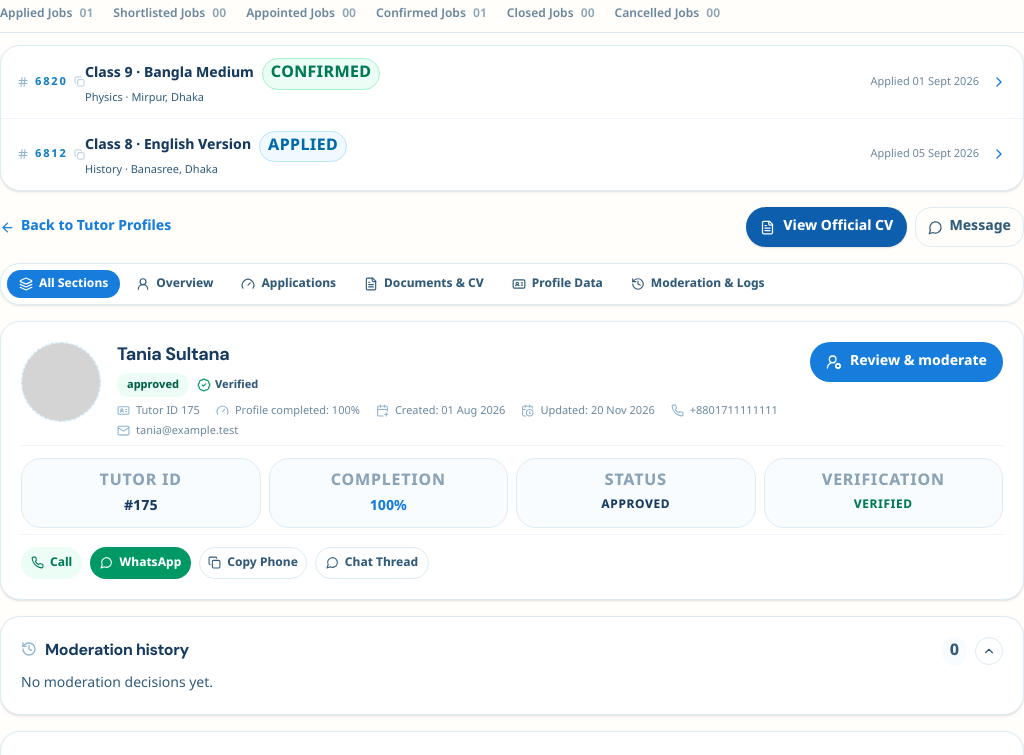
Test: Admin Tutor profile detail › allows admin to select a quick Bengali preset chip to populate the moderation reason
Click the button "Review & moderate" at (906, 362), box [810,342,1003,382]
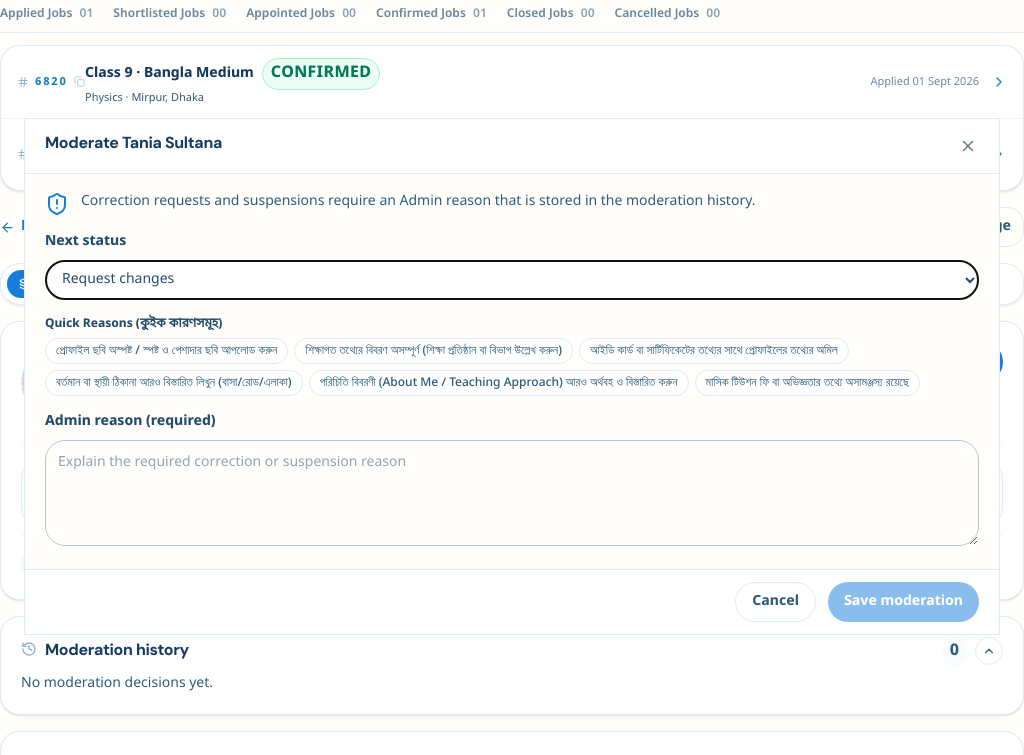
Now the dropdown labelled "Next status" shows "Request changes", box [45,260,979,300]
Click the button "প্রোফাইল ছবি অস্পষ্ট / স্পষ্ট ও পেশাদার ছবি আপলোড করুন" at (167, 350), box [45,338,288,364]
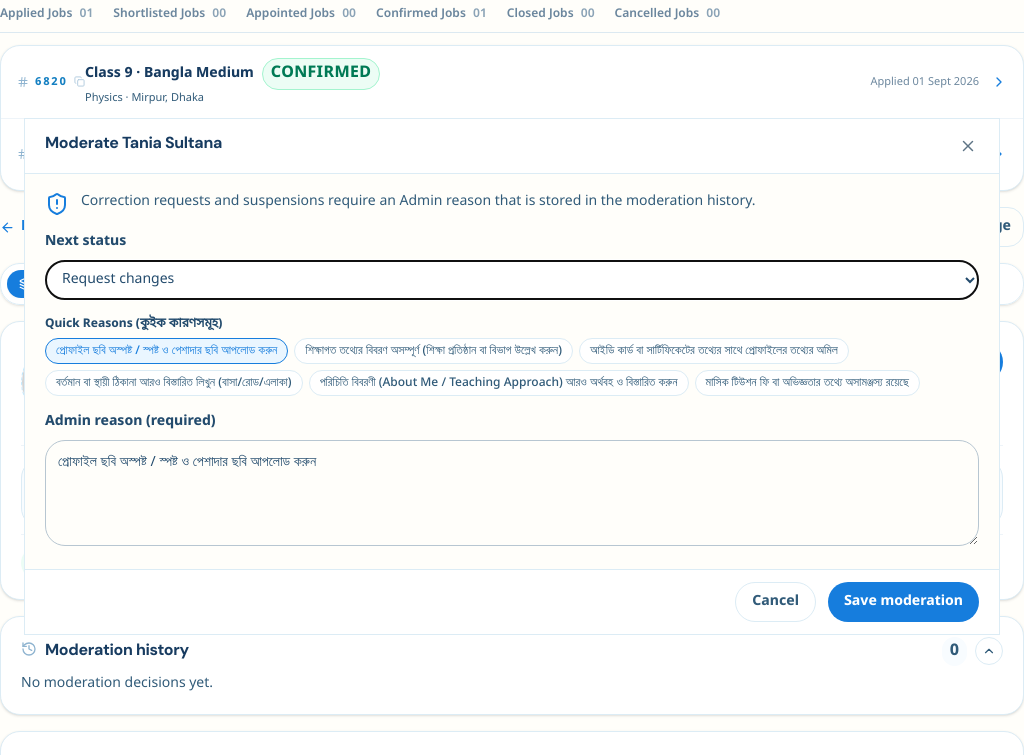
Now the text box labelled "Admin reason (required)" holds "প্রোফাইল ছবি অস্পষ্ট / স্পষ্ট ও পেশাদার ছবি আপলোড করুন", box [45,440,979,546]
Now the button "Save moderation" is enabled, box [828,582,979,622]
